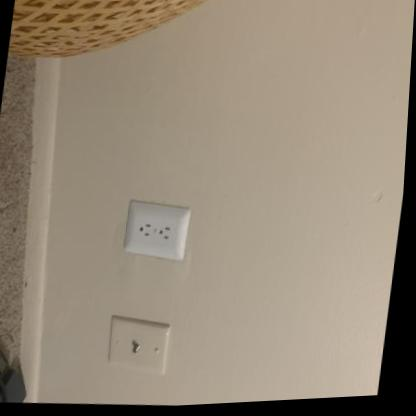OUTLET: (121, 197, 193, 263)
